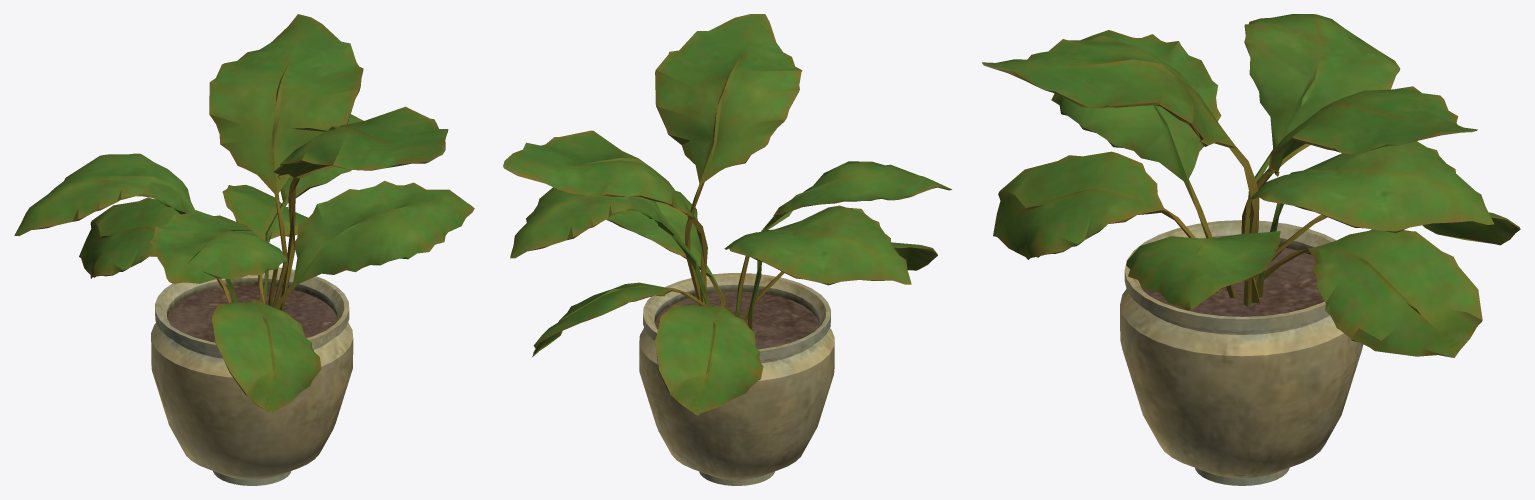
The model's file is plant-small-d.glb.
The picture shows the model from 3 angles, left to right: view 1: azimuth 30°, elevation 25°; view 2: azimuth 150°, elevation 25°; view 3: azimuth 270°, elevation 25°; orthographic projection. The views are drawn at different scales.
Visible parts, largest first — view 1: plant-small-d; view 2: plant-small-d; view 3: plant-small-d.
Part boxes in pixels (x1=…): plant-small-d: x1=14, y1=14, x2=474, y2=485; plant-small-d: x1=503, y1=14, x2=951, y2=485; plant-small-d: x1=982, y1=14, x2=1520, y2=485.
Size of the model in its own units: 0.4501 by 0.3922 by 0.4242.
1 material, 1 textured.
